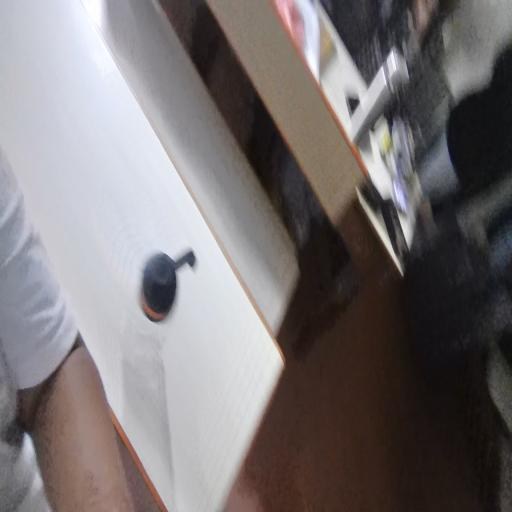Bottle: (117, 234, 187, 354)
